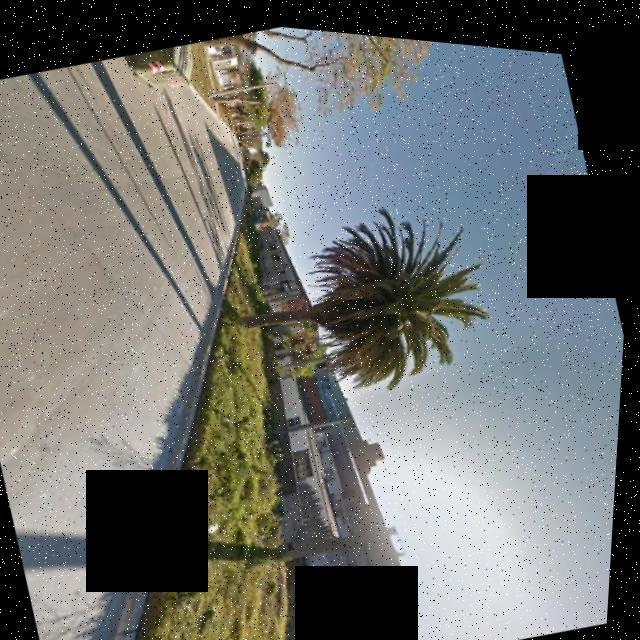bin: (116, 31, 212, 109)
